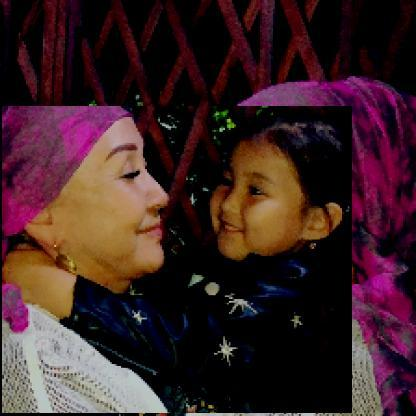child: (3, 107, 354, 415)
